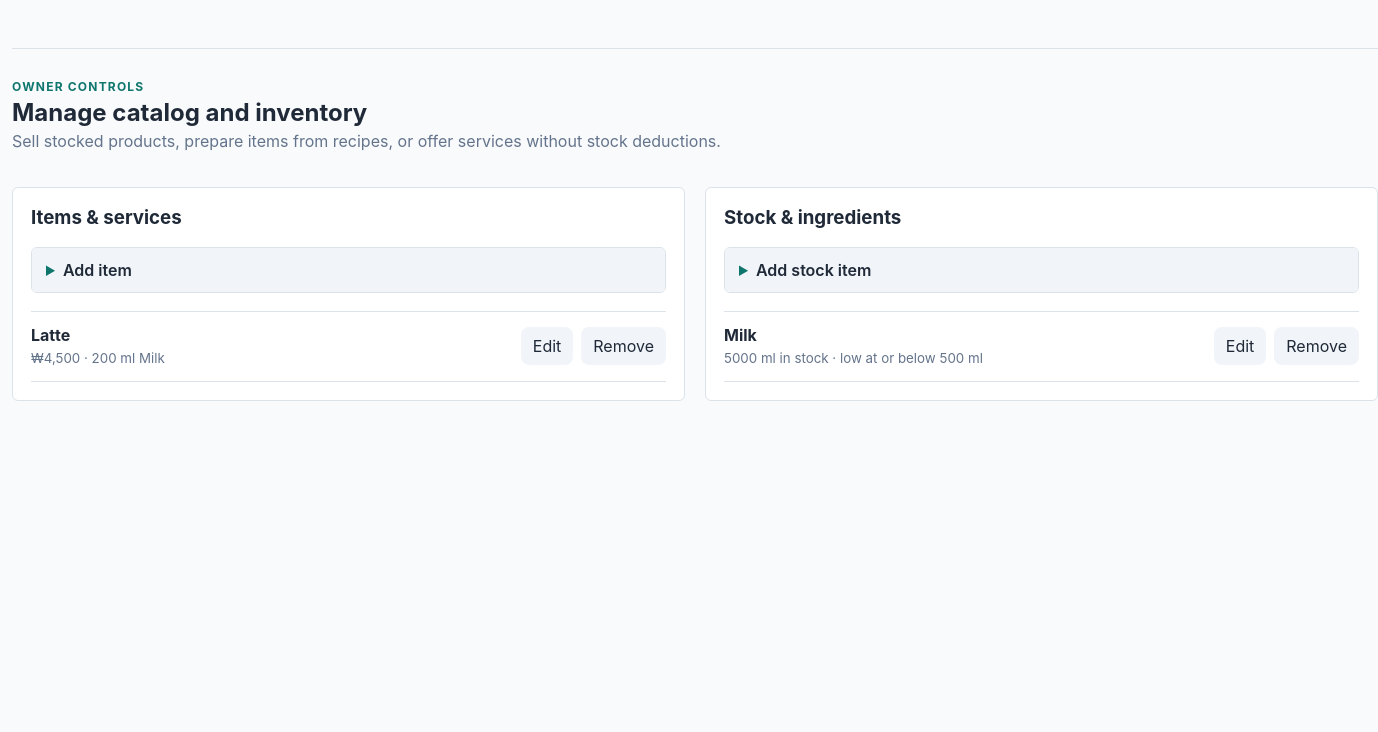
Scenario: OwnerManagement › adds an ingredient using the correct API payload
The image size is (1378, 732).
Expected: the text "Latte" is shown, [31, 325, 70, 345]
Click the heading "Add stock item" at [814, 270], box [725, 248, 1358, 292]
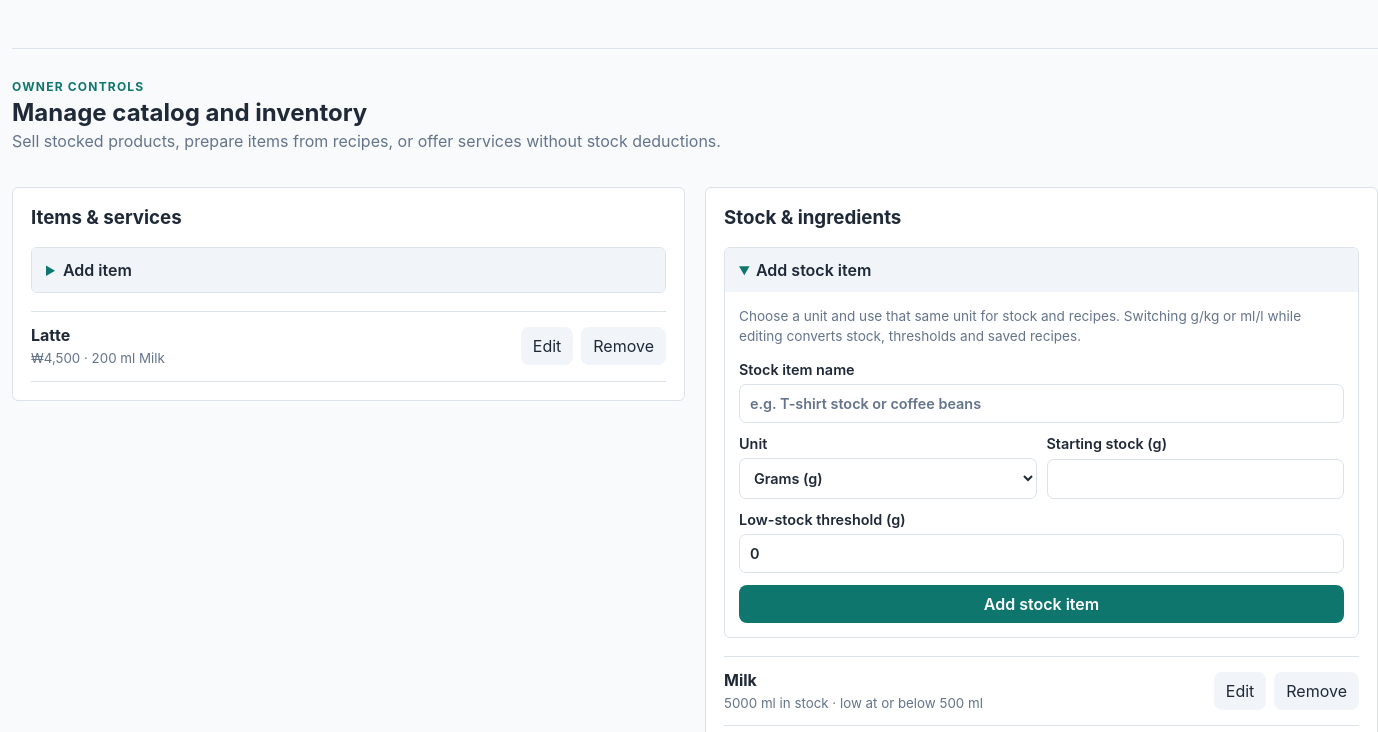
Type "Matcha powder" into the field labelled "Stock item name" at [1042, 403], box [739, 384, 1344, 423]
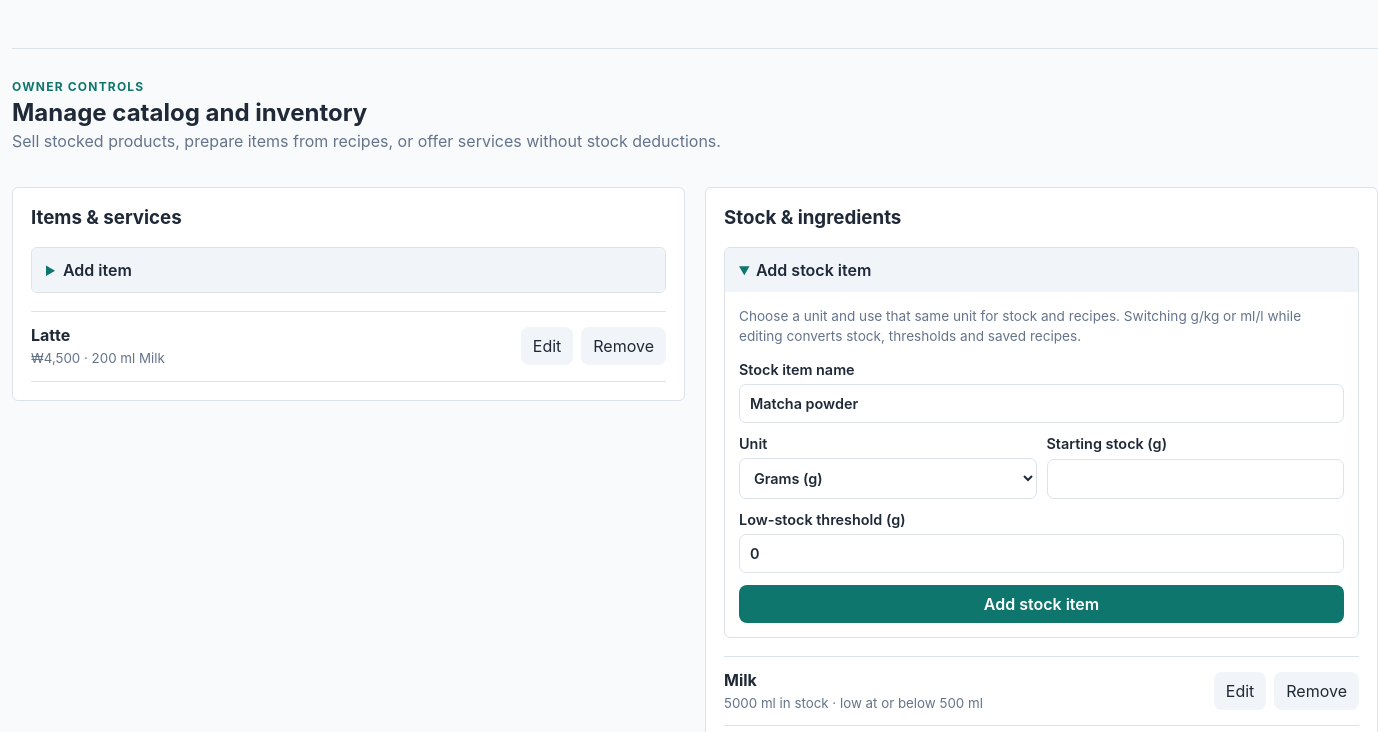
Type "1000" into the number field labelled "Starting stock (g)" at [1195, 479], box [1046, 459, 1344, 499]
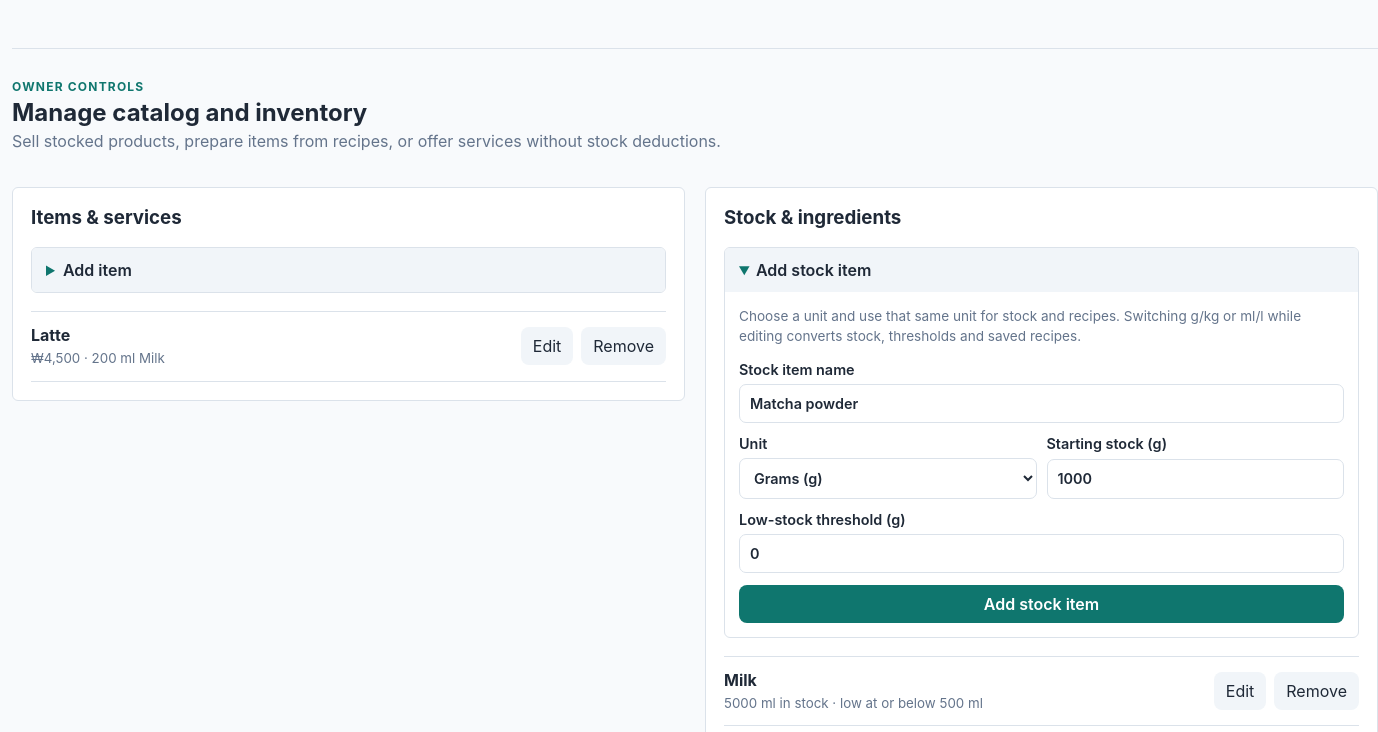
Replace the text in the number field labelled "Low-stock threshold (g)" with "100" at [1042, 553], box [739, 534, 1344, 573]
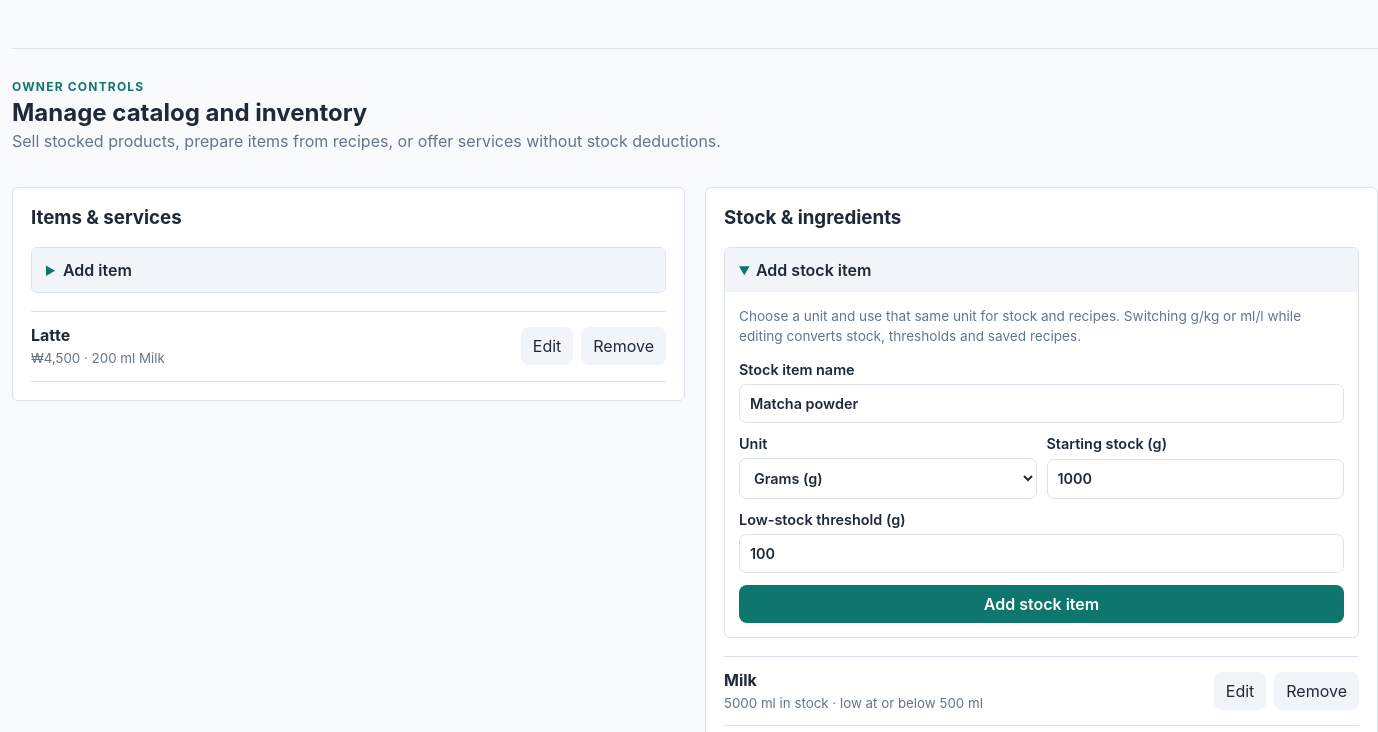
Click the button "Add stock item" at [1042, 604], box [739, 585, 1344, 623]
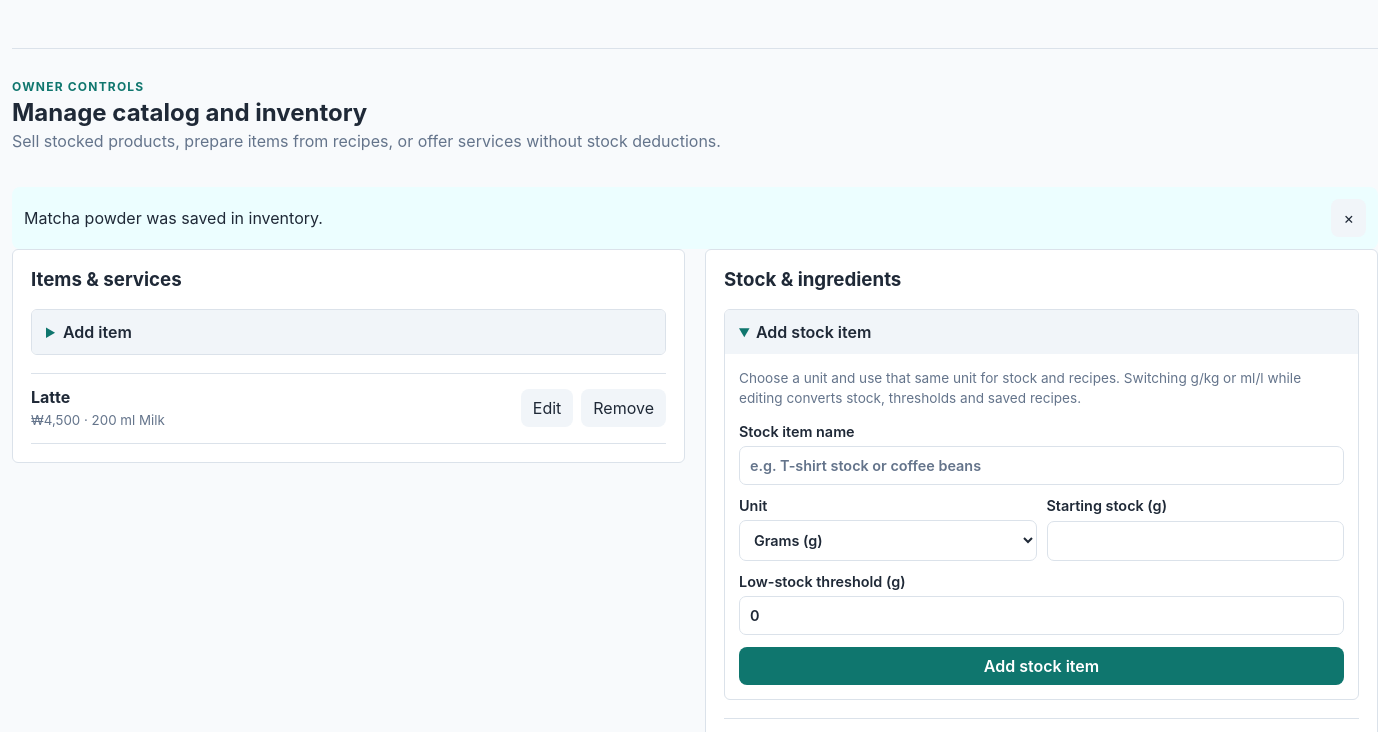
Expected: the text "Matcha powder was saved in inventory." is shown, [24, 208, 323, 228]
